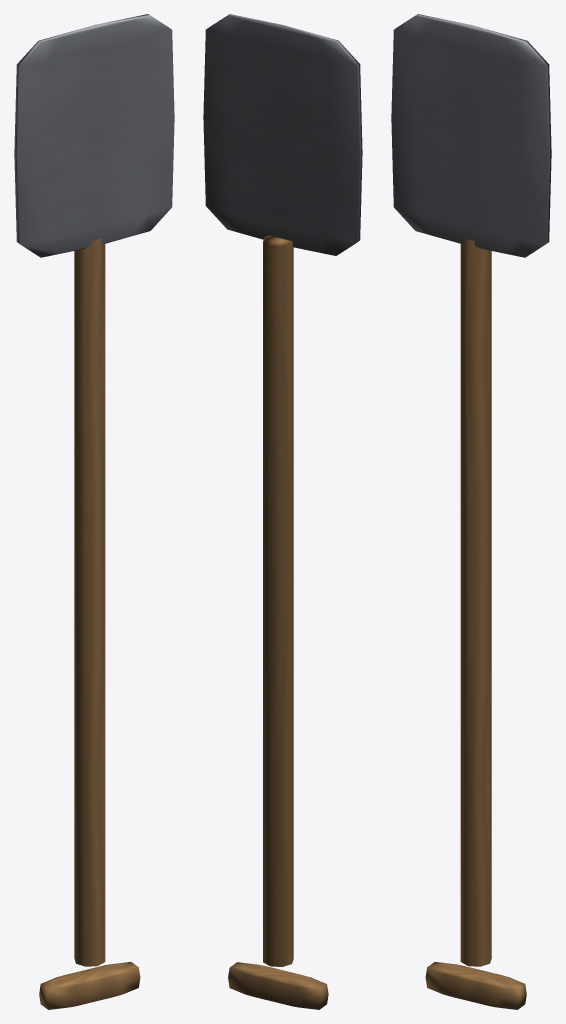
The model's file is pelle.glb.
3 views of the same model, side by side, from view 1: azimuth 30°, elevation 25°; view 2: azimuth 150°, elevation 25°; view 3: azimuth 330°, elevation 25° (orthographic).
Visible parts, largest first — view 1: pelle; view 2: pelle; view 3: pelle.
Boxes of the visible parts, x1,y1,x2,y2 form: pelle: (14, 14, 174, 1009); pelle: (203, 14, 362, 1009); pelle: (391, 14, 551, 1009).
Size of the model in its own units: 0.1922 by 1.15 by 0.034.
1 material, 1 textured.
